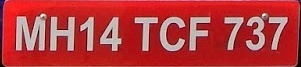character: (15, 14, 45, 52), (158, 16, 185, 51), (49, 16, 75, 51), (133, 16, 158, 52), (100, 16, 122, 51), (188, 16, 210, 50), (267, 16, 288, 51), (223, 16, 244, 50), (245, 15, 265, 50), (79, 16, 95, 52)
